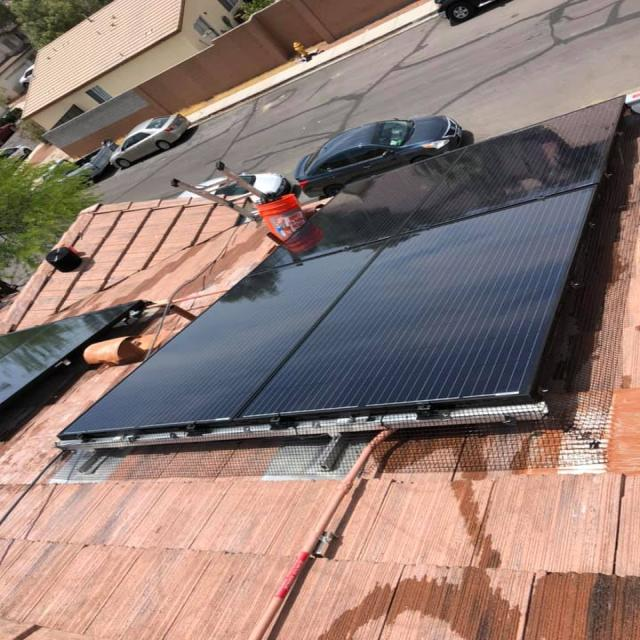clean-solar-panel: (60, 99, 622, 446)
